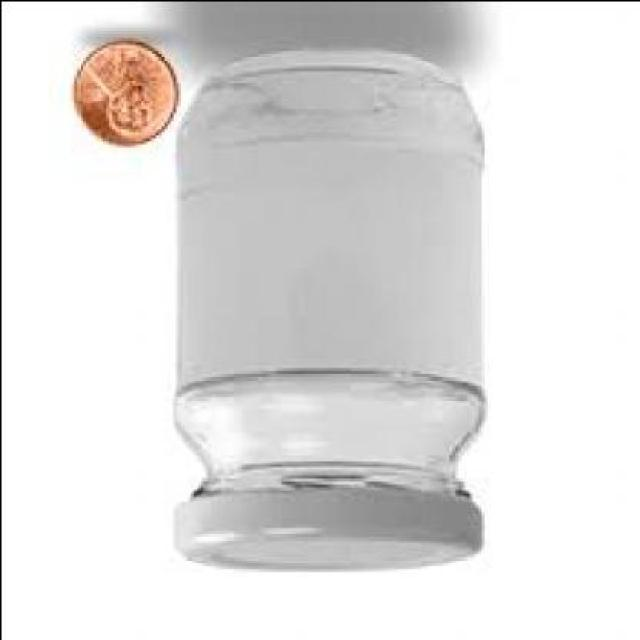GLASS: (172, 46, 480, 500)
METAL: (172, 492, 477, 573), (70, 44, 172, 148)
